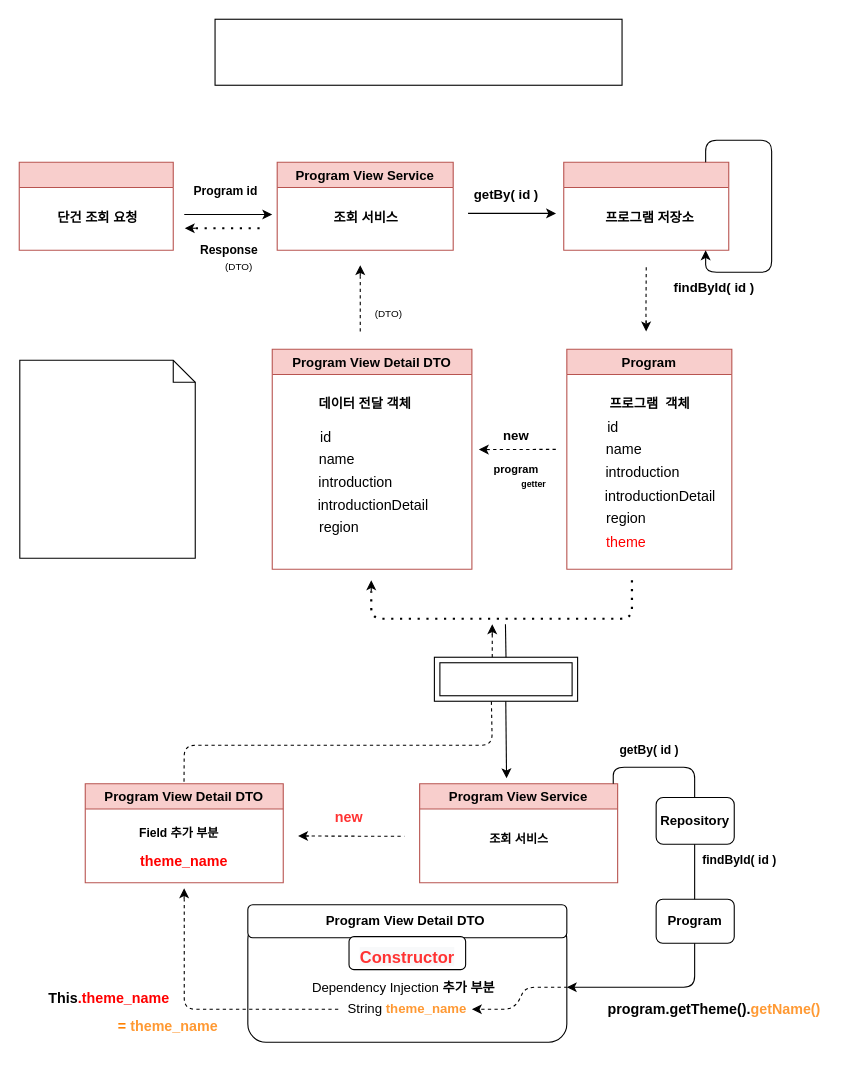
Some shapes in this 853 by 1087 pixel diagram are drawn without their labels. The box of each missing label's shape, as (x1, y1, x2, y2) in pixels:
Program Repository: (563, 161, 729, 250)
Program 조회 View - 테마 이름 추가: (214, 18, 622, 85)
theme_name 추가: (433, 656, 578, 701)
수정 내용 개요 DTO 생성 시 Program 객체로 부터 누락된 theme 객체 를 가져와 DTO 속성에 추가 한다 .: (19, 359, 195, 558)
클라이언트: (18, 161, 173, 250)
